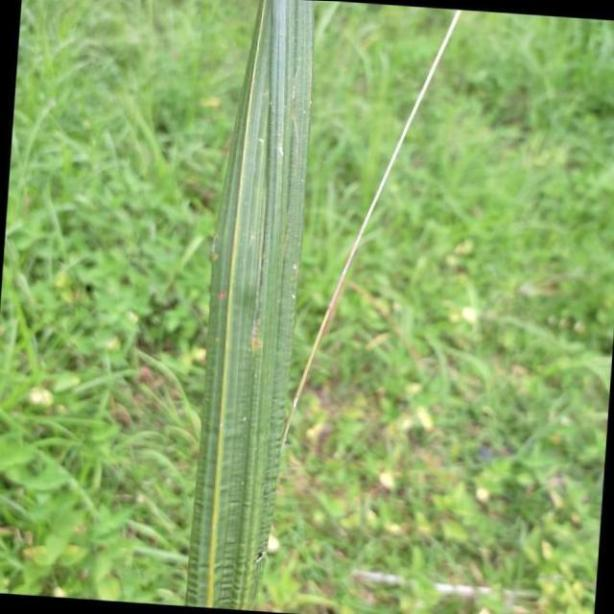Boron: (185, 0, 315, 614)
